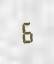six: (19, 20, 33, 43)
